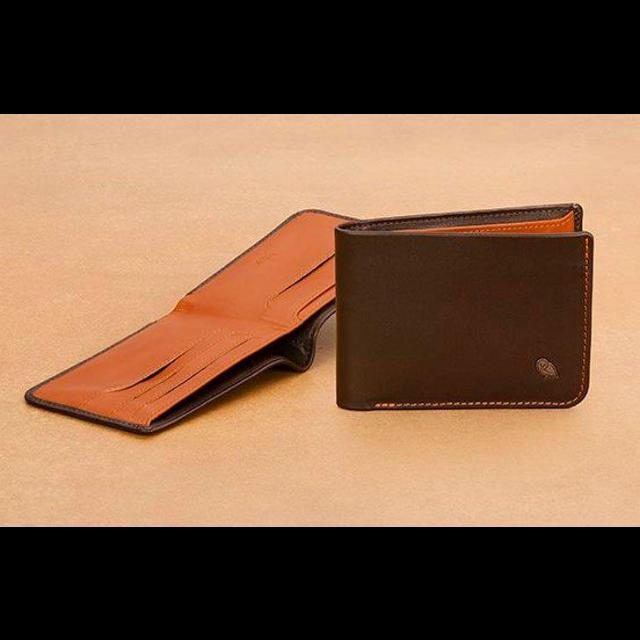wallet: (333, 196, 594, 412)
